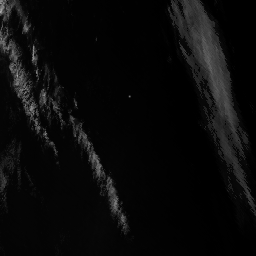Target: (127, 94, 133, 99)
